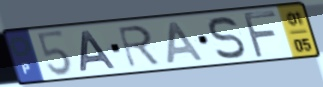5: (34, 28, 74, 78)
A: (166, 20, 206, 66), (79, 29, 119, 73)
F: (240, 10, 280, 61)
R: (115, 23, 163, 70)
S: (207, 15, 248, 61)
